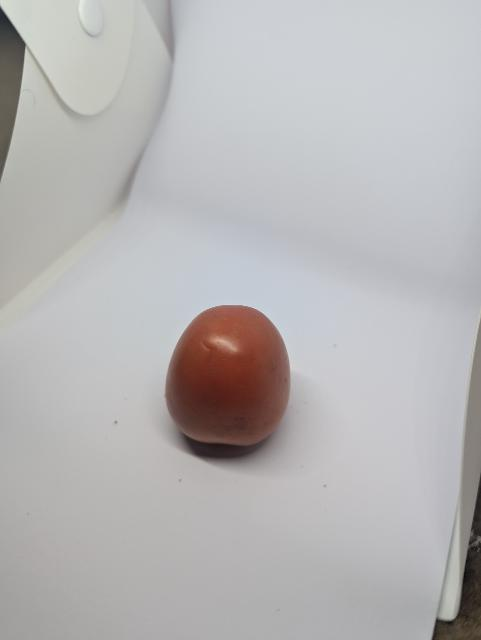red: (162, 303, 294, 449)
